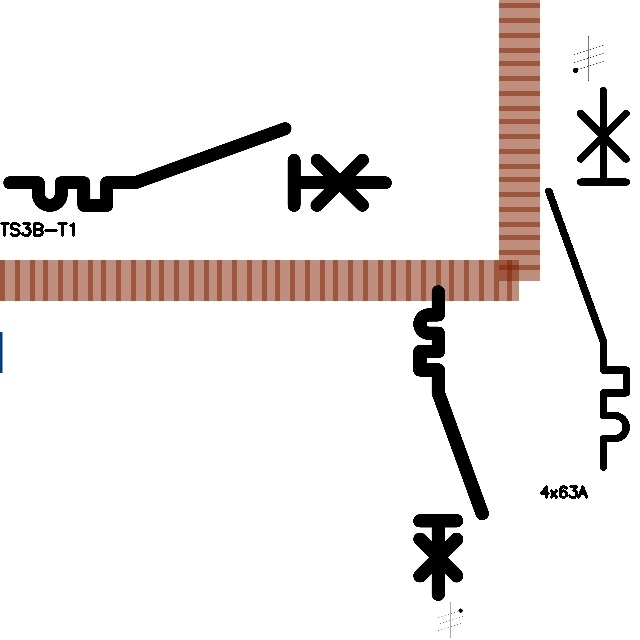interruptor_termomagnetico: (539, 80, 636, 476), (0, 119, 394, 215), (412, 284, 489, 602)
